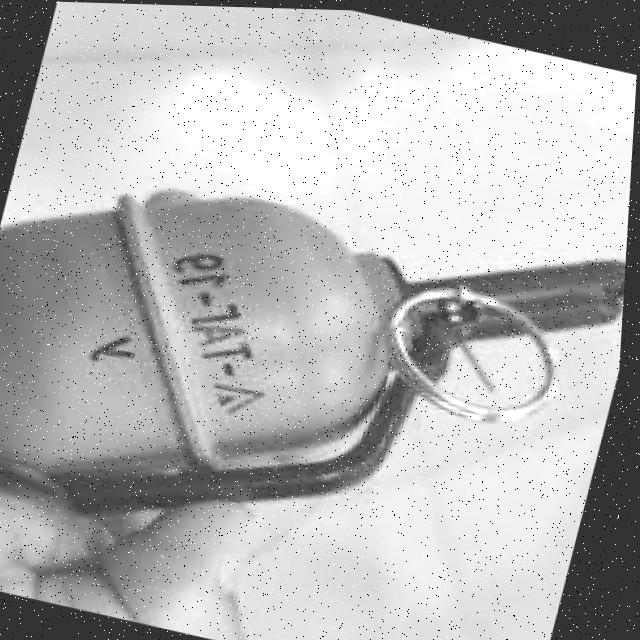grenade: (0, 95, 636, 623)
